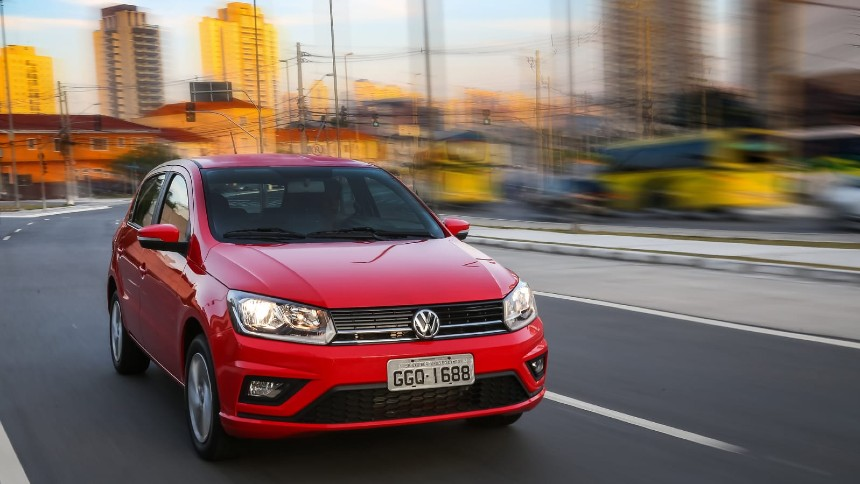car: (103, 151, 557, 462)
car_plate: (385, 354, 478, 390)
